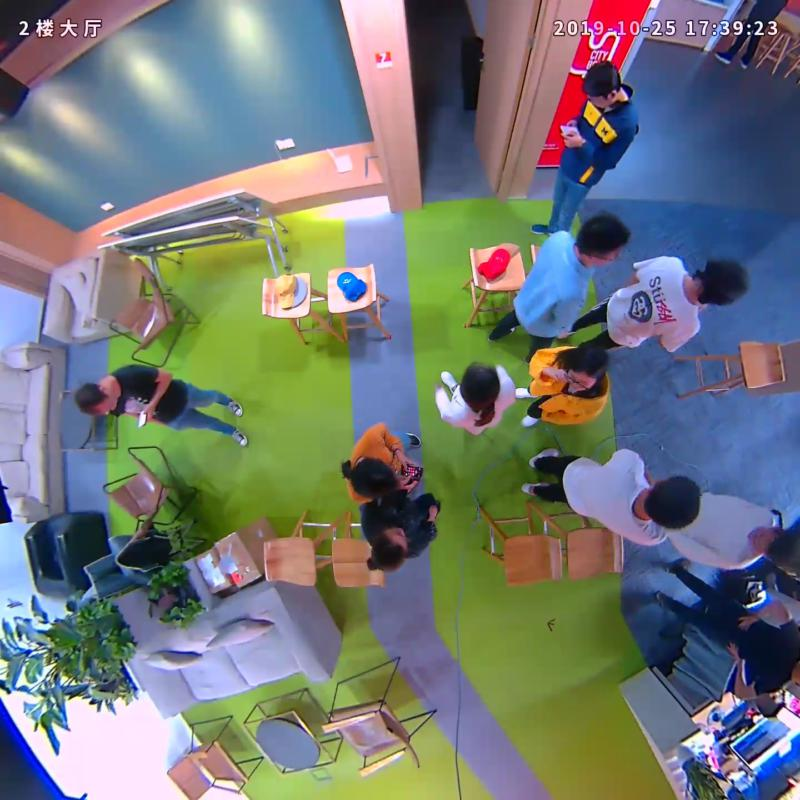head: (641, 473, 701, 530), (576, 213, 629, 267), (698, 258, 749, 306), (747, 525, 800, 567), (349, 456, 398, 499), (459, 362, 500, 412), (567, 344, 608, 390), (582, 59, 620, 108), (371, 526, 408, 572), (73, 381, 118, 416)
